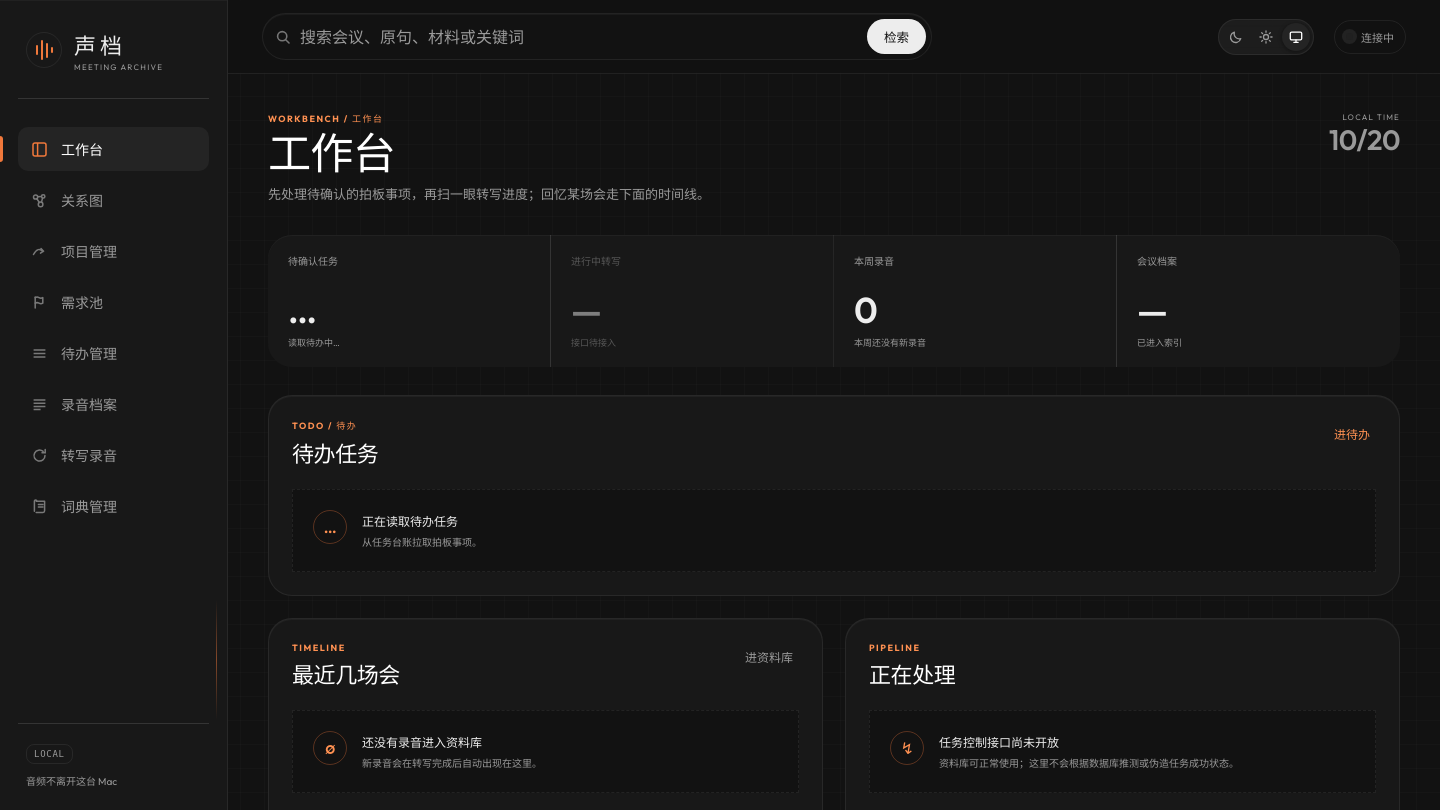
Scenario: 地址栏锚点直达 › 冷加载带 #tasks、启动接口还没回时点了侧栏：启动完成后留在点的那一页，地址栏换成它，不再拉回待办
Click the button "录音档案" at (114, 404), box [18,382,209,426]
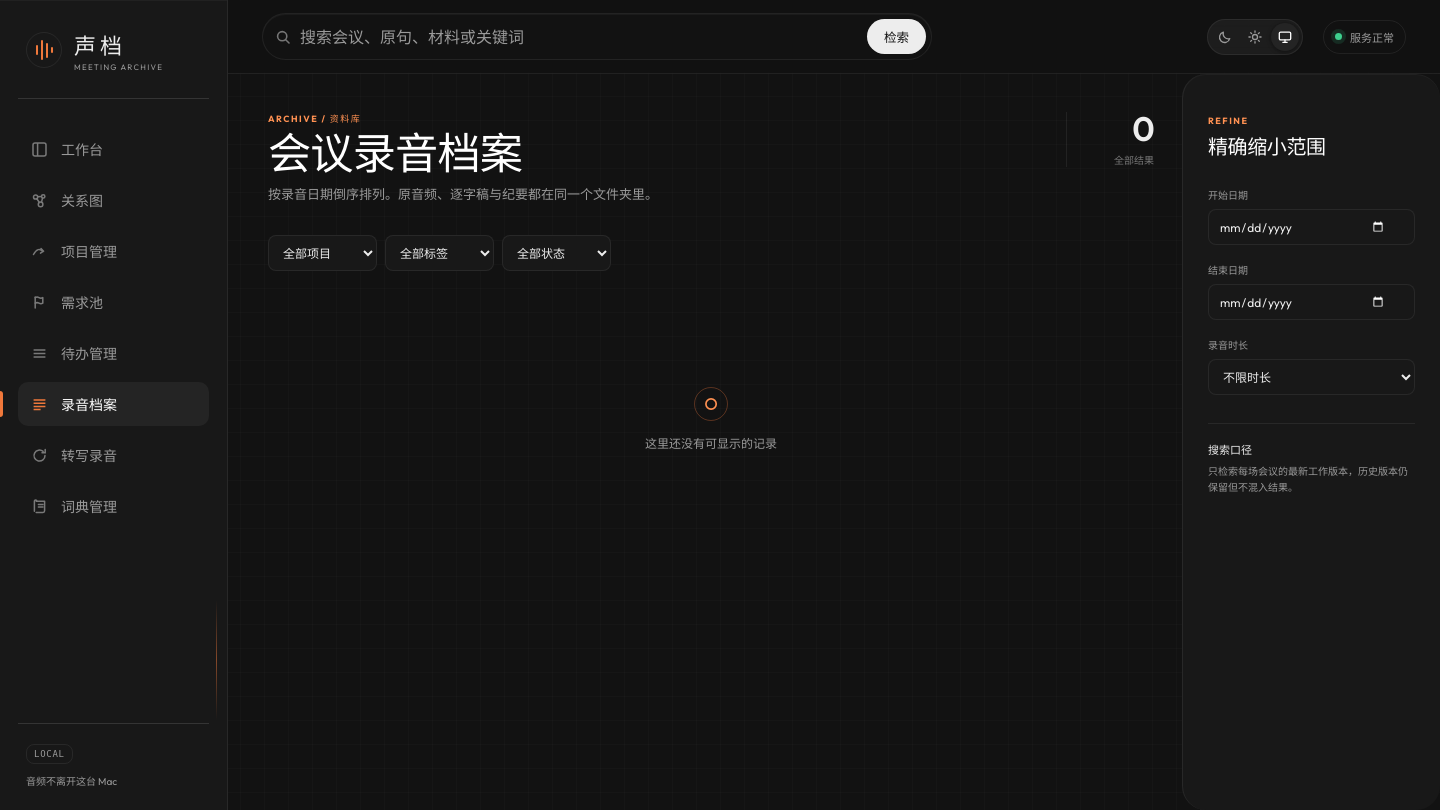
Expected: the heading "会议录音档案" is shown, [268,126,522,180]
